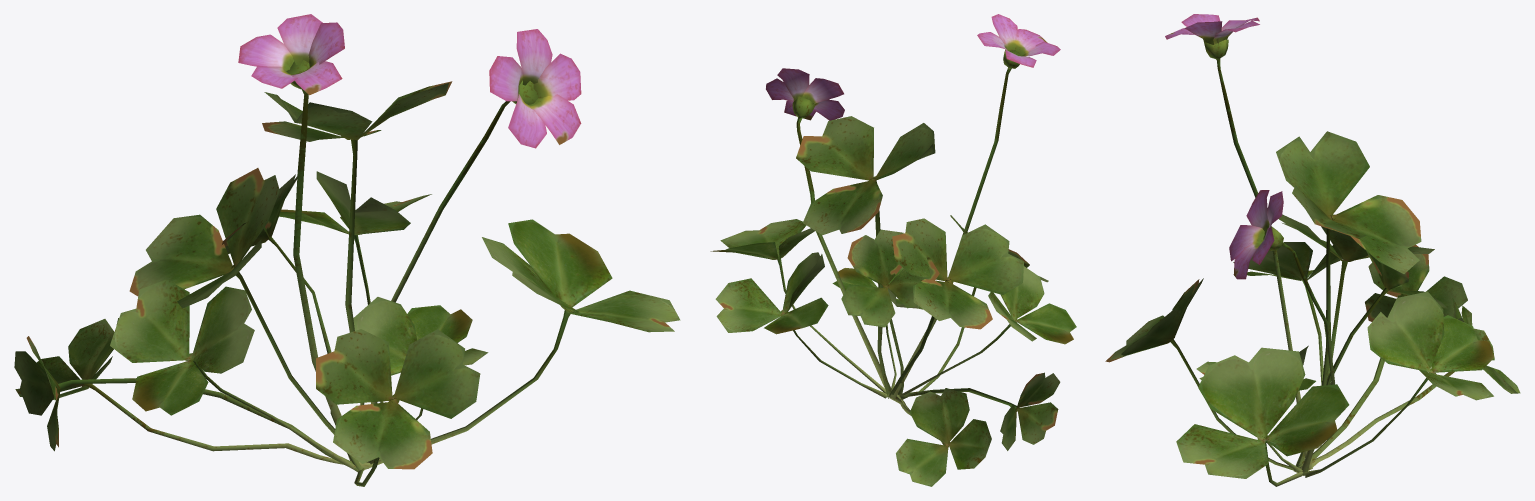
File: shrub_sorrel_01.glb
3 renders of one model, left to right at view 1: azimuth 30°, elevation 25°; view 2: azimuth 150°, elevation 25°; view 3: azimuth 270°, elevation 25°, orthographic. The views are drawn at different scales.
Visible parts, largest first — view 1: shrub_sorrel_01_d; view 2: shrub_sorrel_01_d; view 3: shrub_sorrel_01_d.
Part boxes in pixels (box(x1,y1,x2,y2)): shrub_sorrel_01_d: box(14, 14, 680, 486); shrub_sorrel_01_d: box(710, 14, 1076, 486); shrub_sorrel_01_d: box(1105, 14, 1520, 486).
Bounding box in the file's own units: 0.0609 × 0.0544 × 0.0486.
Materials: 1 (1 with a texture image).
